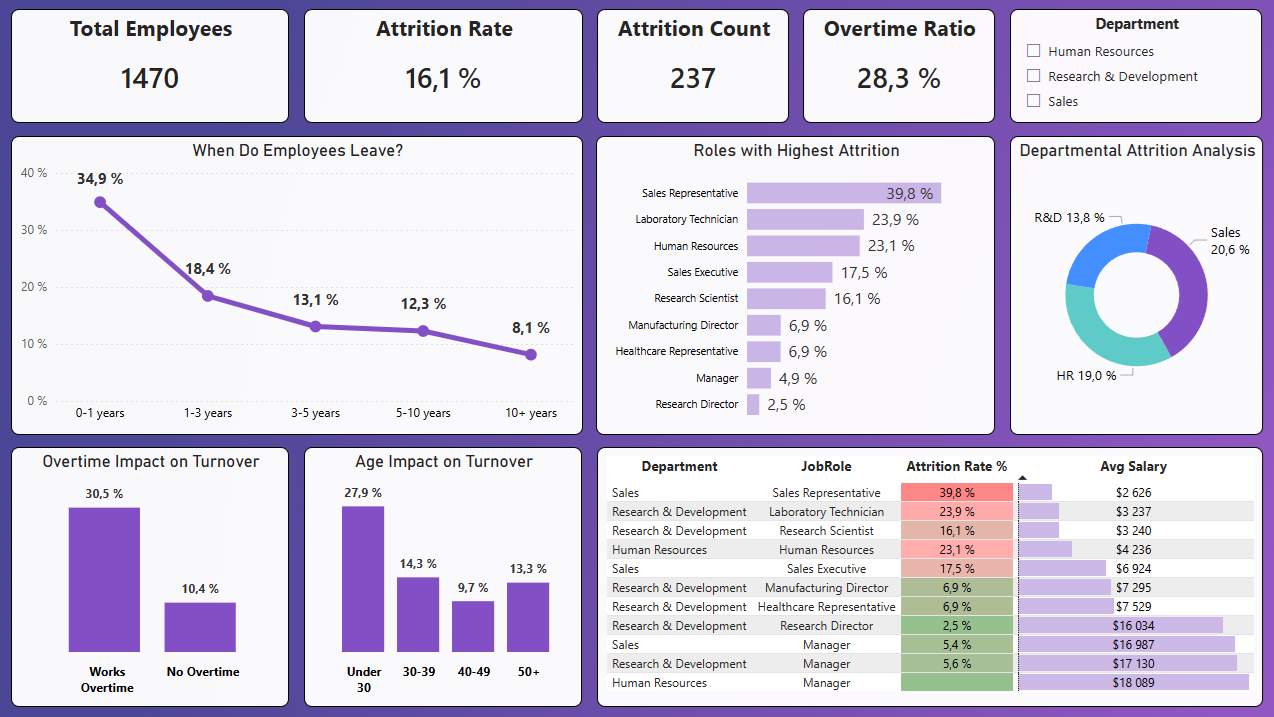

The dashboard page shown, as its layout file describes it:
{"tool":"powerbi","page":{"name":"Page 1","canvas":[1280,720],"ordinal":0},"visuals":[{"type":"card","title":"Total Employees","fields":{"Values":["_Measures.Total Employees"]},"box":[12.6,9.7,278.2,113.8],"z":0},{"type":"card","title":"Attrition Rate","fields":{"Values":["_Measures.Attrition Rate %"]},"box":[306.4,9.7,278.2,113.8],"z":1000},{"type":"card","title":"Attrition Count","fields":{"Values":["_Measures.Employees Left"]},"box":[599.1,9.7,191.6,113.8],"z":2000},{"type":"card","title":"Overtime Ratio","fields":{"Values":["_Measures.Overtime Ratio %"]},"box":[805.3,9.7,191.6,113.8],"z":3000},{"type":"barChart","title":"Roles with Highest Attrition","fields":{"Category":["Fact_Employees.JobRole"],"Y":["_Measures.Attrition Rate %"]},"box":[598.2,137.1,398.8,298.6],"z":4000},{"type":"slicer","title":"Department","fields":{"Values":["Fact_Employees.Department"]},"box":[1011.6,9.7,252.9,113.8],"z":5000},{"type":"columnChart","title":"Age Impact on Turnover","fields":{"Y":["_Measures.Attrition Rate %"],"Category":["Fact_Employees.Age Group"]},"box":[306,448,278,260],"z":6000},{"type":"donutChart","title":"Departmental Attrition Analysis","fields":{"Category":["Fact_Employees.Department (short names)"],"Y":["_Measures.Attrition Rate %"]},"box":[1012,137,253,299],"z":7000},{"type":"clusteredColumnChart","title":"Overtime Impact on Turnover","fields":{"Y":["_Measures.Attrition Rate %"],"Category":["Fact_Employees.Overtime Status"]},"box":[13,448,278,260],"z":8000},{"type":"tableEx","title":"In-Depth Analysis by Role","fields":{"Values":["Fact_Employees.Department","Fact_Employees.JobRole","_Measures.Attrition Rate %","_Measures.Average Monthly Income"]},"box":[599,448,666,260],"z":9000},{"type":"lineChart","title":"When Do Employees Leave?","fields":{"Y":["_Measures.Attrition Rate %"],"Category":["Fact_Employees.Tenure Group"]},"box":[12.6,137.1,571.9,298.6],"z":10000}]}

Visuals, with their boxes in screenshot pixels (x1, y1, x2, y2), scaled from the page's 1280x720 canvas onto the 1274x717 screenshot:
"Total Employees" card: 13 10 289 123
"Attrition Rate" card: 305 10 582 123
"Attrition Count" card: 596 10 787 123
"Overtime Ratio" card: 802 10 992 123
"Roles with Highest Attrition" barChart: 595 137 992 434
"Department" slicer: 1007 10 1259 123
"Age Impact on Turnover" columnChart: 305 446 581 705
"Departmental Attrition Analysis" donutChart: 1007 136 1259 434
"Overtime Impact on Turnover" clusteredColumnChart: 13 446 290 705
"In-Depth Analysis by Role" tableEx: 596 446 1259 705
"When Do Employees Leave?" lineChart: 13 137 582 434
